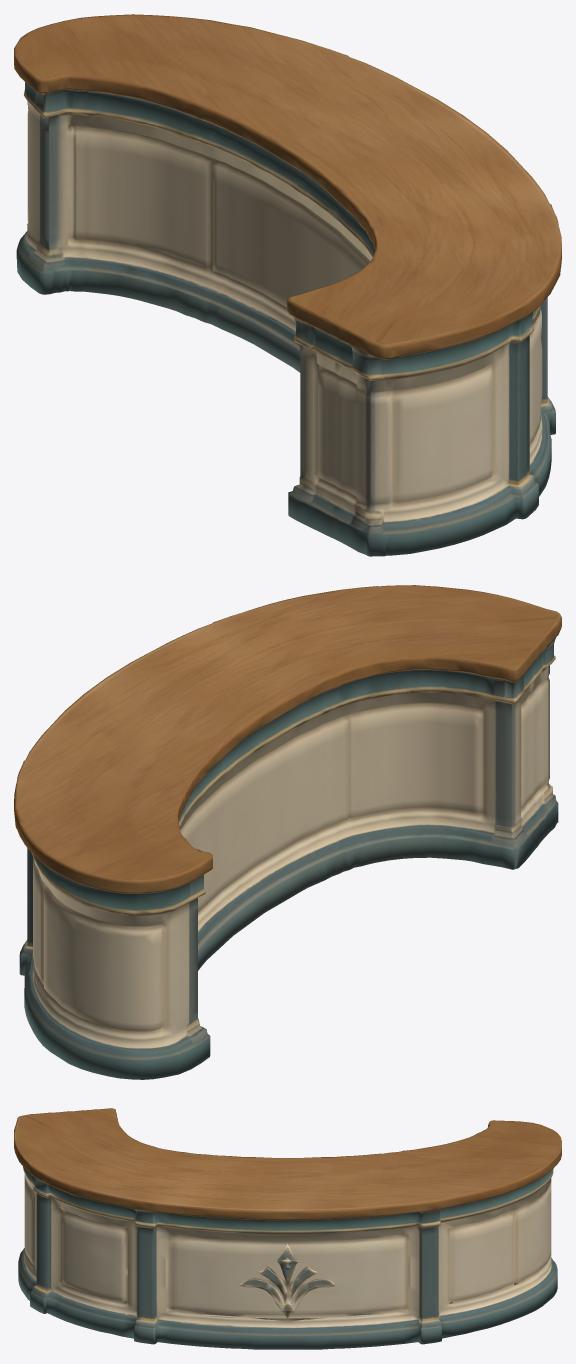
The model's file is pack-curved-desk.glb.
The picture shows the model from 3 angles, top to bottom: view 1: azimuth 30°, elevation 25°; view 2: azimuth 150°, elevation 25°; view 3: azimuth 270°, elevation 25°; orthographic projection. The views are drawn at different scales.
Visible parts, largest first — view 1: tripo_node_70b195ec-7290-4a2c-8921-13e2dcb3cf12; view 2: tripo_node_70b195ec-7290-4a2c-8921-13e2dcb3cf12; view 3: tripo_node_70b195ec-7290-4a2c-8921-13e2dcb3cf12.
Part boxes in pixels (x1,y1,x2,y2): tripo_node_70b195ec-7290-4a2c-8921-13e2dcb3cf12: (14, 14, 561, 556); tripo_node_70b195ec-7290-4a2c-8921-13e2dcb3cf12: (14, 585, 561, 1079); tripo_node_70b195ec-7290-4a2c-8921-13e2dcb3cf12: (14, 1108, 561, 1349).
Size of the model in its own units: 0.4344 by 0.2813 by 0.9779.
1 material, 1 textured.
